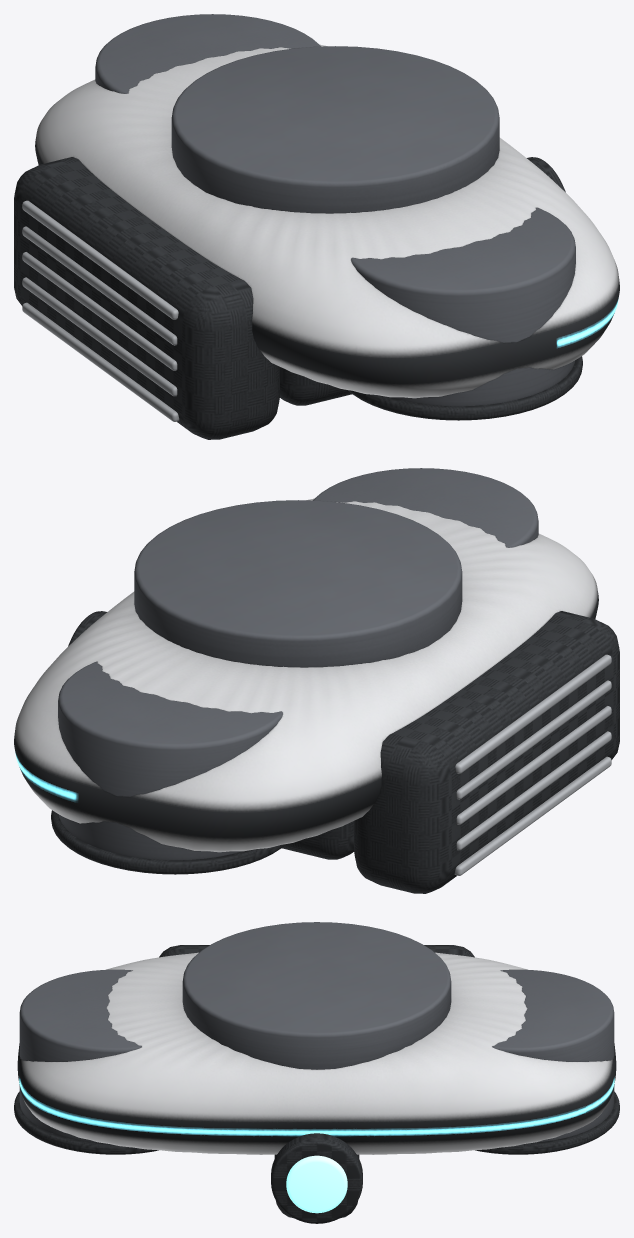
Rendered from pelvis.glb.
3 views of the same model, one above another, from view 1: azimuth 30°, elevation 25°; view 2: azimuth 150°, elevation 25°; view 3: azimuth 270°, elevation 25° (orthographic). The views are drawn at different scales.
Parts seen in each view (by area): view 1: pelvis; view 2: pelvis; view 3: pelvis.
Boxes of the visible parts, <box> form: pelvis: <box>14,14,619,439</box>; pelvis: <box>14,468,619,893</box>; pelvis: <box>14,922,619,1223</box>.
Size of the model in its own units: 0.2255 by 0.127 by 0.316.
Materials: 1 (1 with a texture image).
